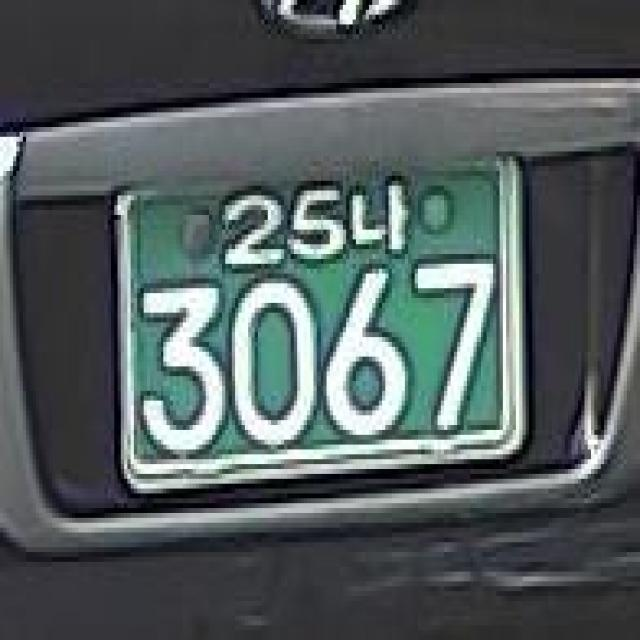illegal_plate: (98, 145, 540, 505)
